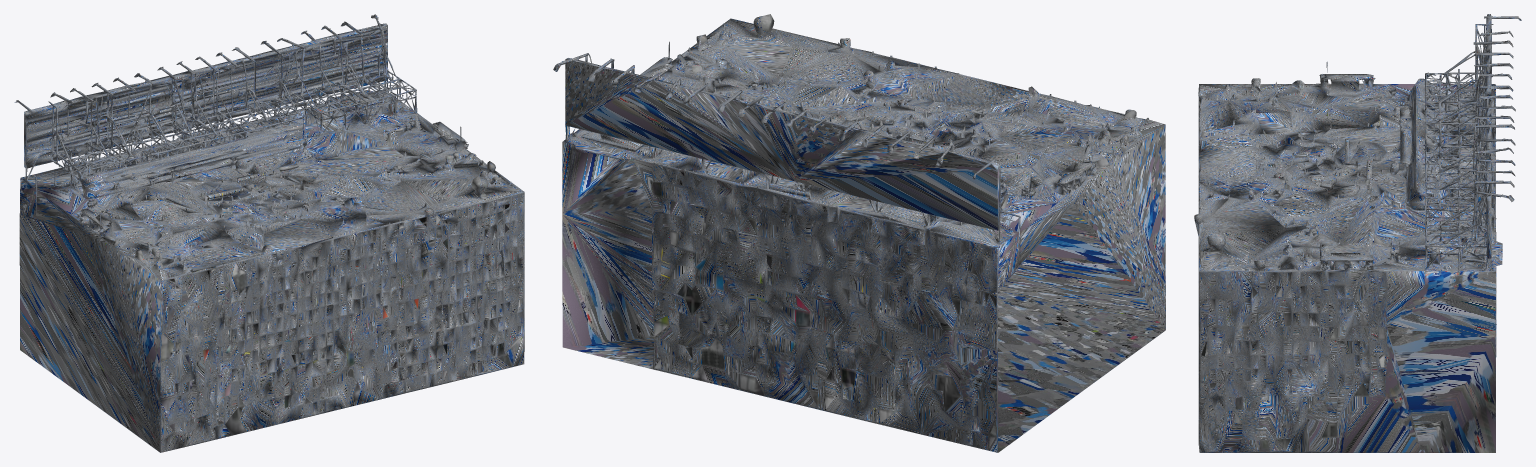
File: ostankino.glb
3 views of the same model, side by side, from view 1: azimuth 30°, elevation 25°; view 2: azimuth 150°, elevation 25°; view 3: azimuth 270°, elevation 25° (orthographic). The views are drawn at different scales.
Parts seen in each view (by area): view 1: mesh_0; view 2: mesh_0; view 3: mesh_0.
Boxes of the visible parts, x1=… form: mesh_0: x1=14, y1=14, x2=524, y2=452; mesh_0: x1=553, y1=14, x2=1165, y2=452; mesh_0: x1=1194, y1=14, x2=1521, y2=452.
Size of the model in its own units: 1.9 by 1.21 by 1.39.
1 material, 1 textured.
